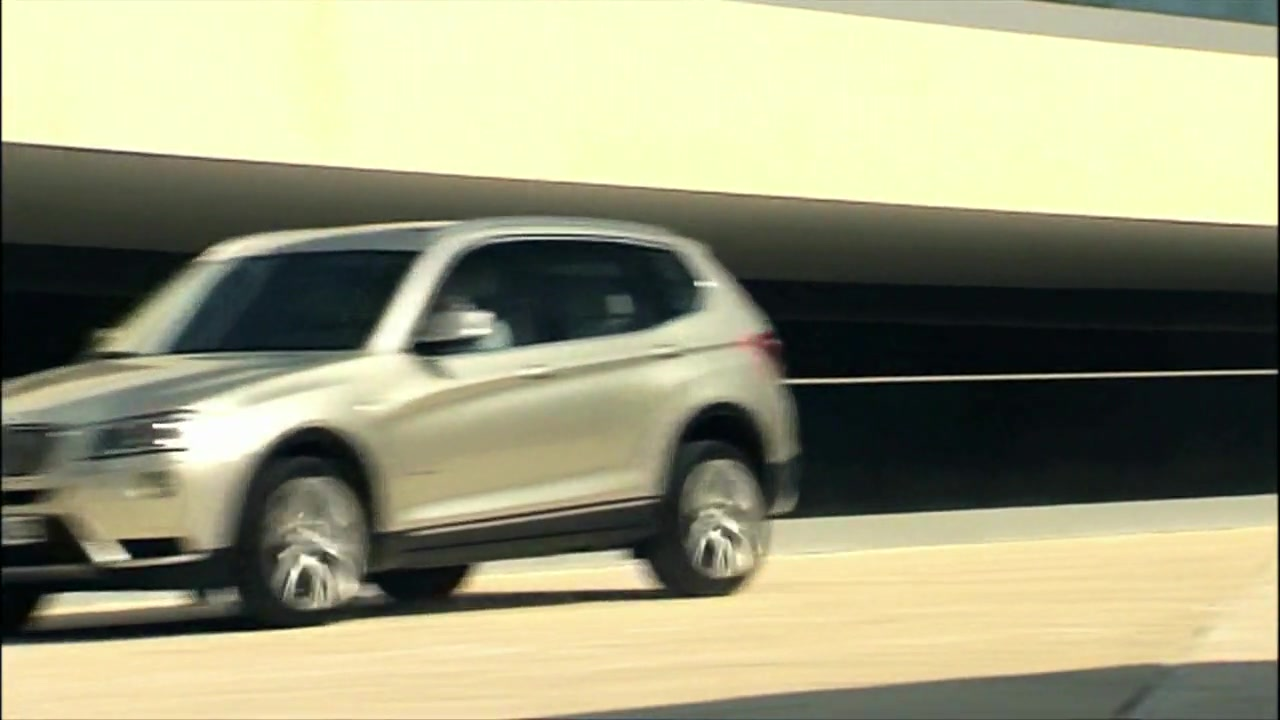car: (7, 213, 805, 636)
